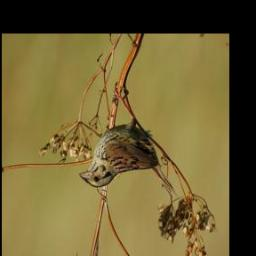Sparrow: (77, 82, 180, 199)
